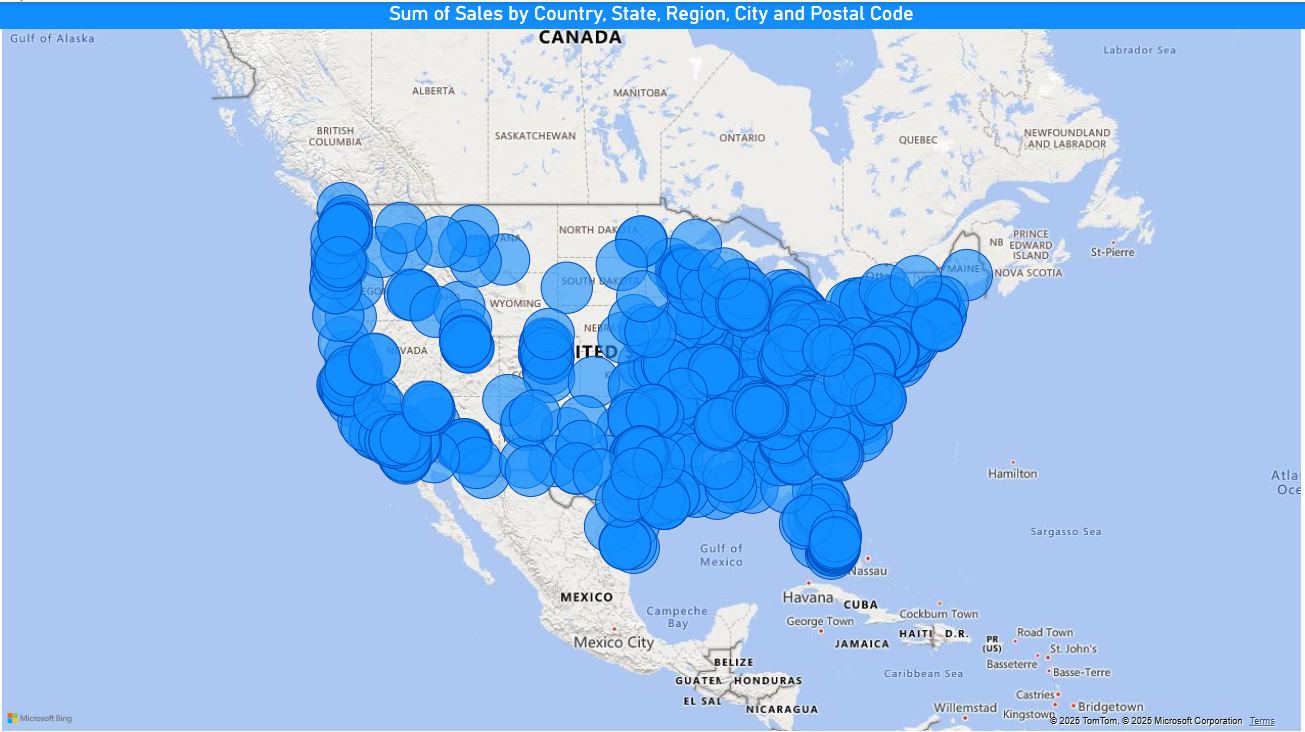

The page's visual inventory and layout, read from the dashboard file:
{"tool":"powerbi","page":{"name":"Sales by Country, State,Region,City","canvas":[1280,720],"ordinal":2},"visuals":[{"type":"map","fields":{"Size":["Sum(Orders.Sales)"],"Category":["Orders$FilterDatabase.Location.Country","Orders$FilterDatabase.Location.State","Orders$FilterDatabase.Location.Region","Orders$FilterDatabase.Location.City","Orders$FilterDatabase.Location.Postal Code"]},"box":[0,0,1280,720],"z":1000}]}

Visuals, with their boxes in screenshot pixels (x1, y1, x2, y2), scaled from the page's 1280x720 canvas onto the 1305x732 screenshot:
map - Sum(Orders.Sales) x Orders$FilterDatabase.Location.Country: box=[0, 0, 1304, 731]
